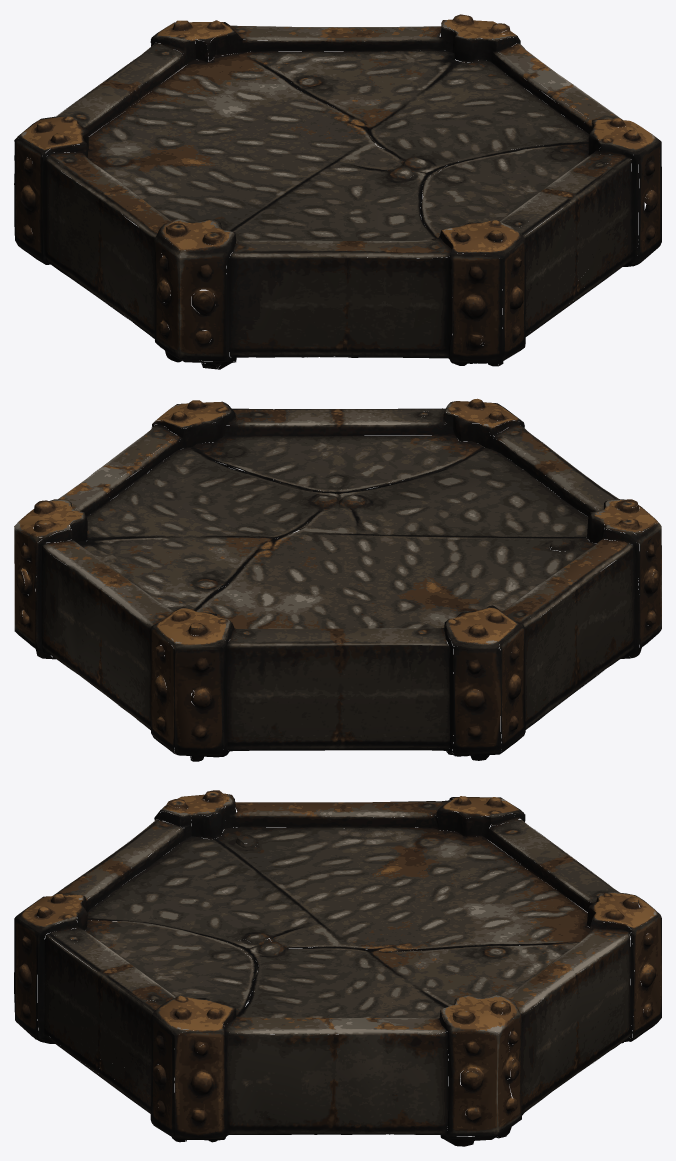
The model's file is tr_floor_1.glb.
3 renders of one model, top to bottom at view 1: azimuth 30°, elevation 25°; view 2: azimuth 150°, elevation 25°; view 3: azimuth 270°, elevation 25°, orthographic.
Parts seen in each view (by area): view 1: tr_floor_1; view 2: tr_floor_1; view 3: tr_floor_1.
Part boxes in pixels (<box>): tr_floor_1: <box>14,14,661,369</box>; tr_floor_1: <box>14,398,661,761</box>; tr_floor_1: <box>14,790,661,1146</box>.
Size of the model in its own units: 1.32 by 0.3371 by 1.5.
1 material, 1 textured.
